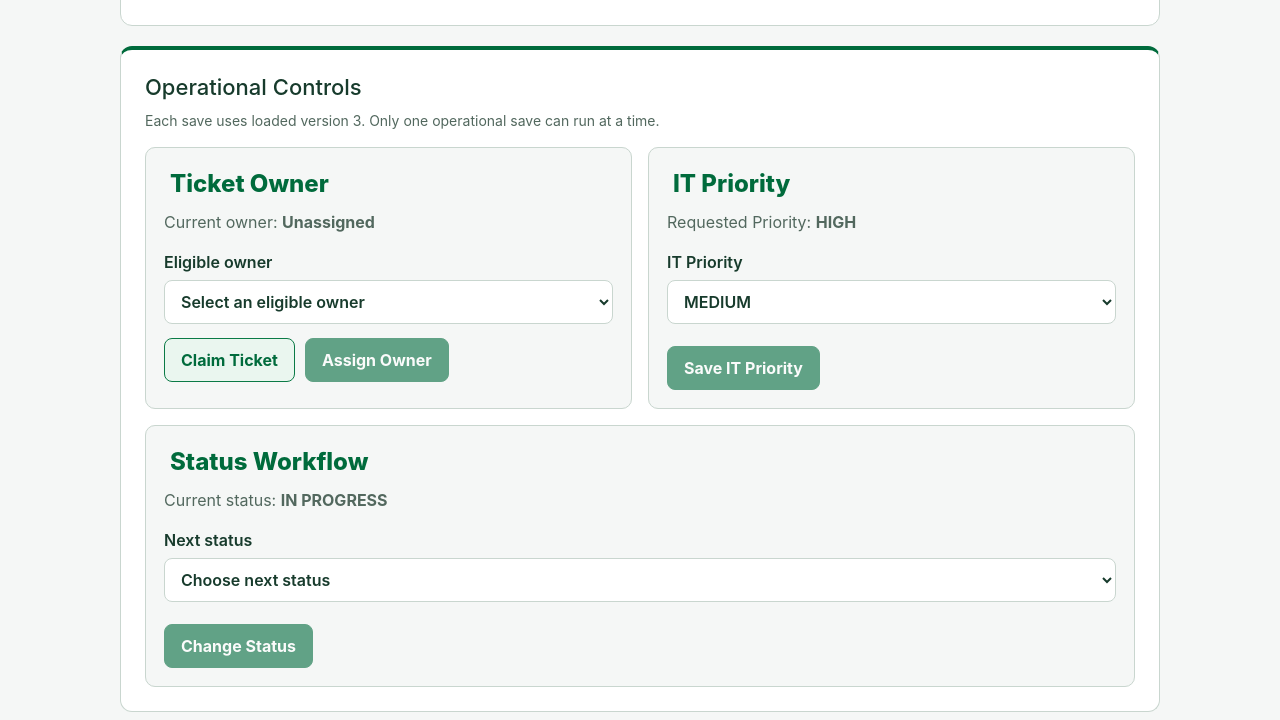
UI-06 integrated Staff Ticket Detail › claims an unassigned Ticket with the loaded version and keeps formal status unchanged
The width and height of the screenshot is (1280, 720).
(page scrolled)
Click the button "Claim Ticket".
click(229, 360)  # box x1=164 y1=338 x2=295 y2=382
(page scrolled)
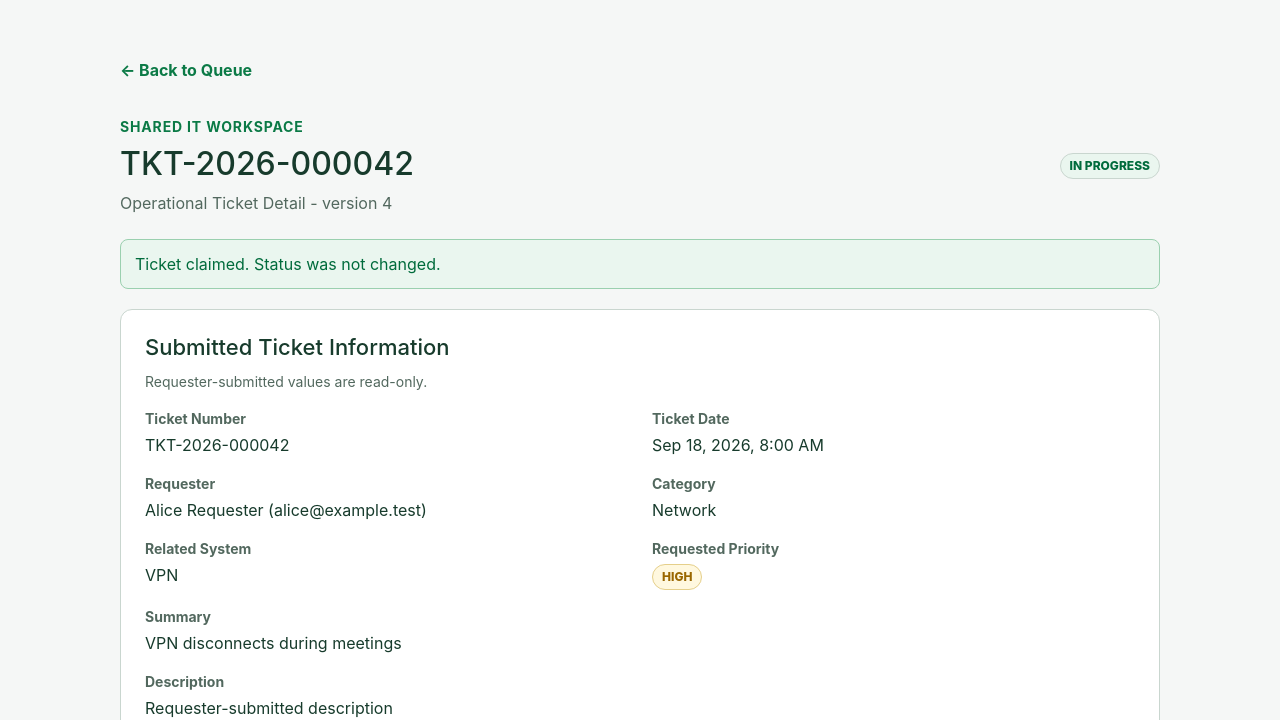
Expected: the text "IN PROGRESS" is shown, x1=1060 y1=153 x2=1160 y2=179
Now the text "Ticket claimed. Status was not changed." is shown, box x1=120 y1=239 x2=1160 y2=289
